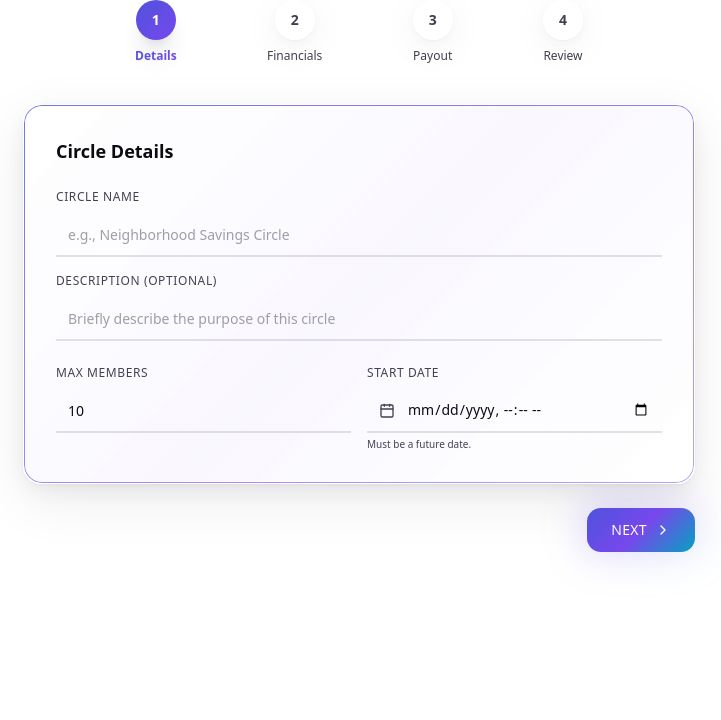
Test case: CircleCreateForm — step navigation › Previous button appears on step 2
// Navigate to step 2 by filling step 1 form
In the field with placeholder "e.g., Neighborhood Savings Circle": (359, 235) [56,213,662,257], type "Valid Circle Name"
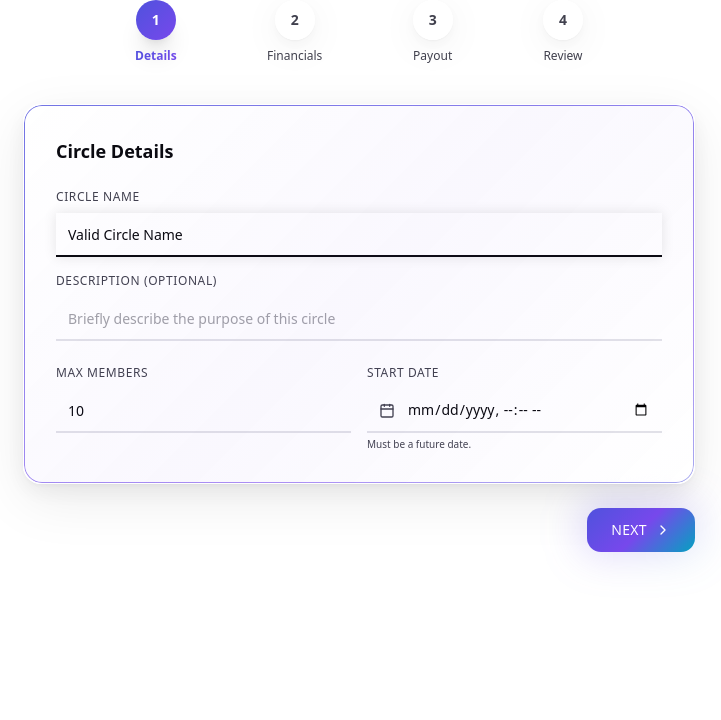
Click the button "Next": (641, 530) [587,508,695,552]
(page scrolled)
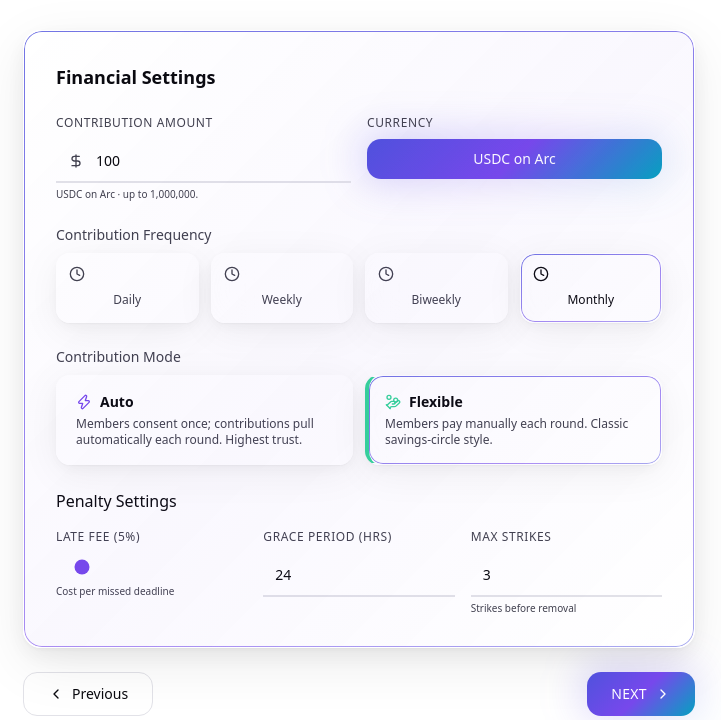
Expected: the button "Previous" is shown, [23,672,153,716]
